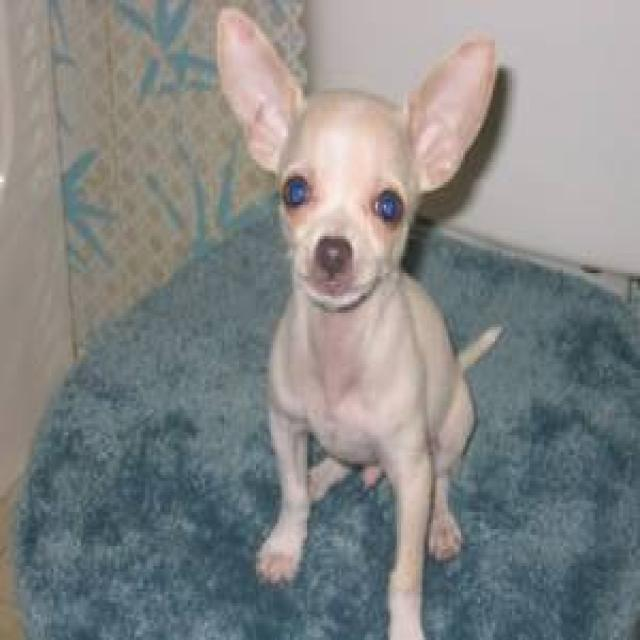dog-chihuahua: (205, 3, 503, 634)
